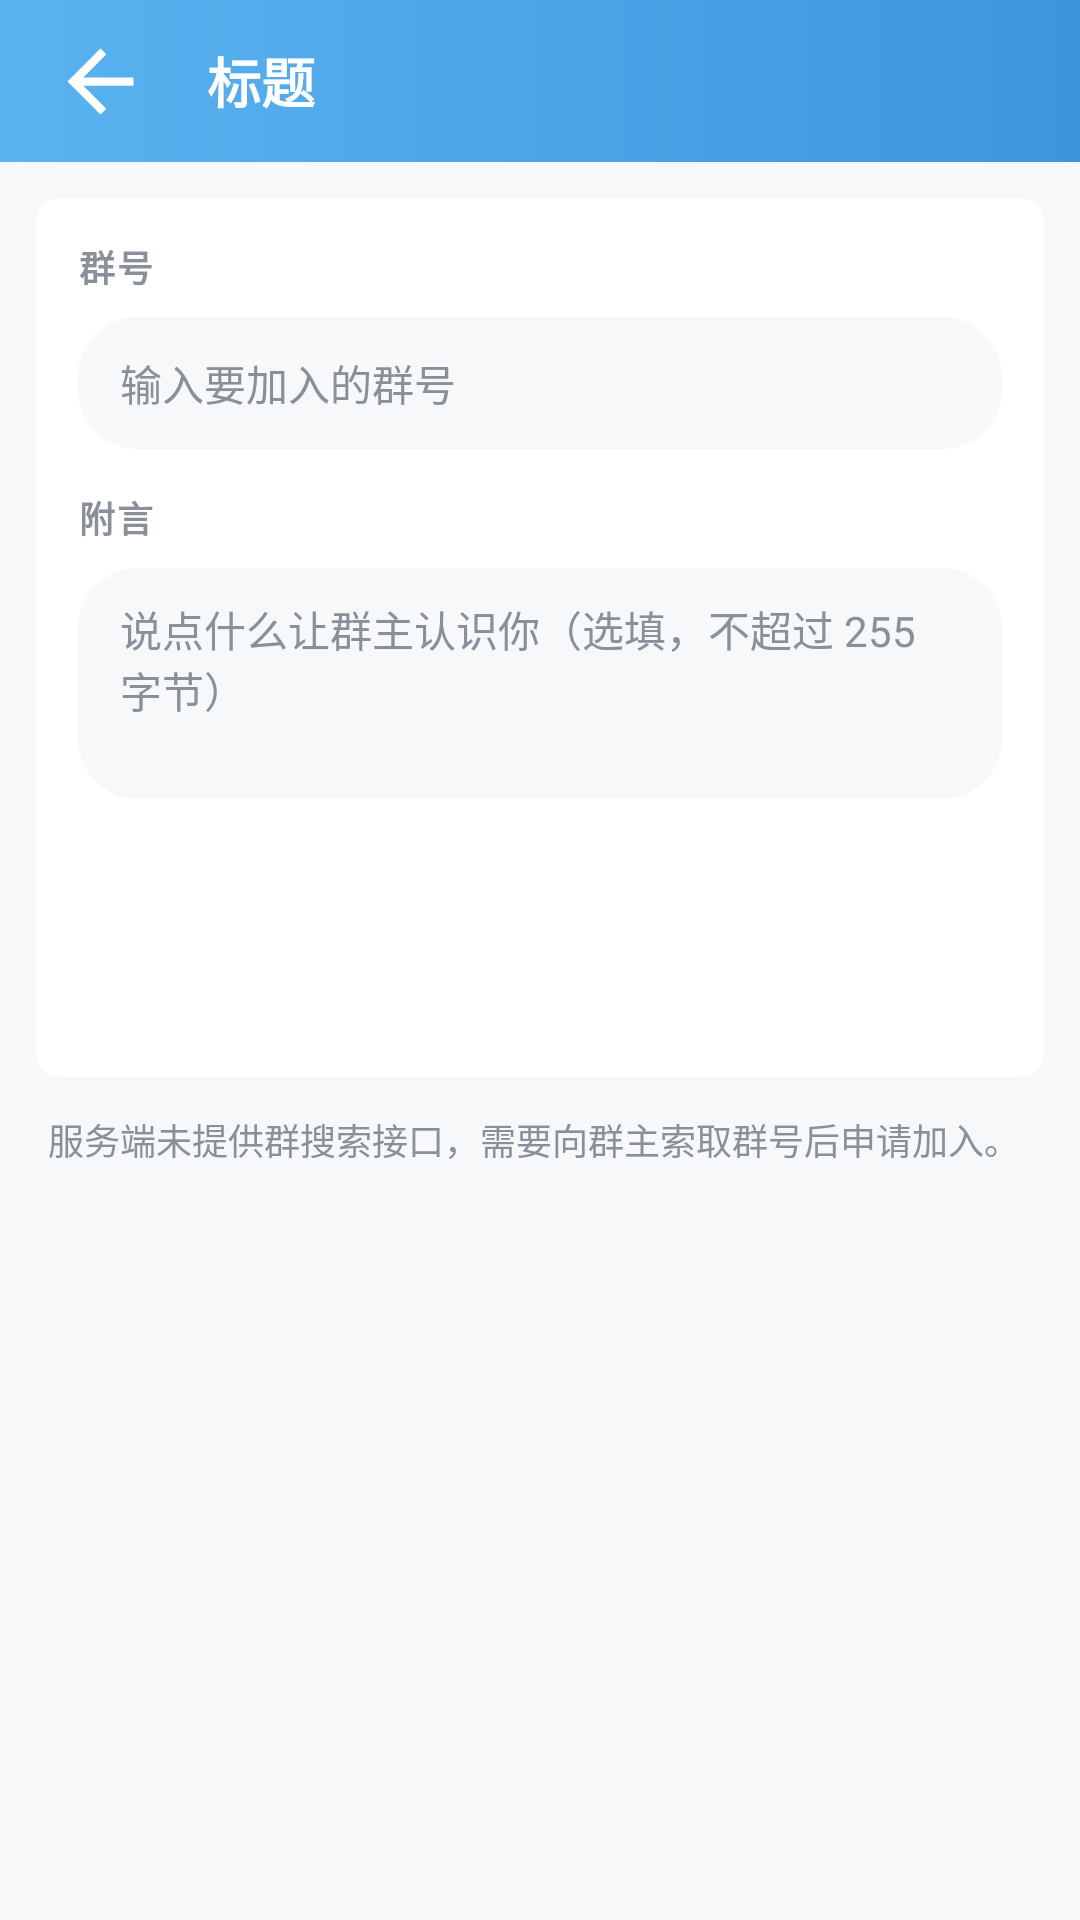

Locate icon controls on the screen. Image size 1080×1920, boxes as (x1, y1, x2, y2).
返回: (67, 48, 134, 115)
